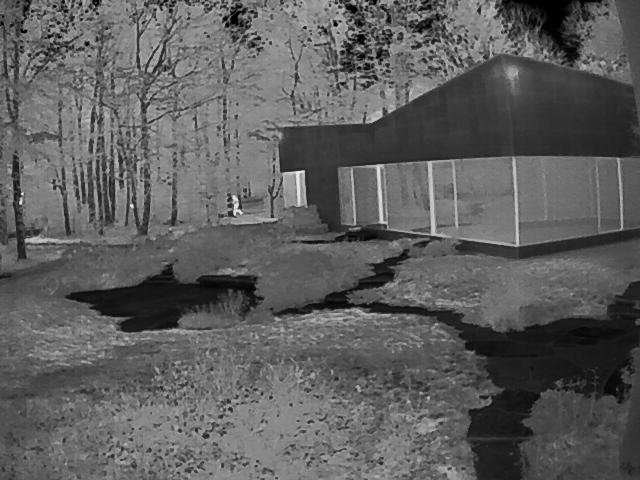person: (233, 195, 243, 217)
